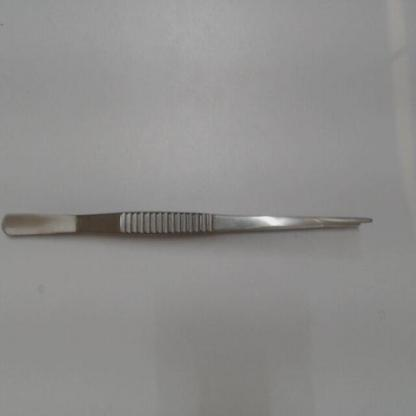DeBakey Dissector: (5, 188, 390, 257)
